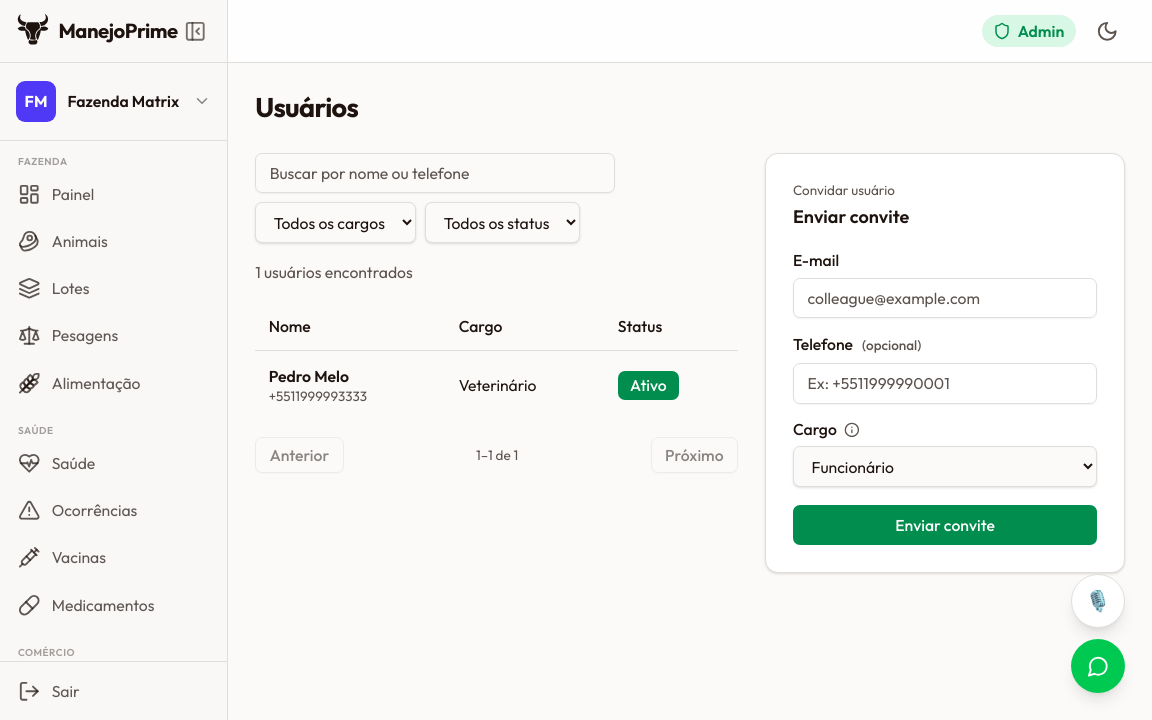
admin users page › shows user detail and revokes member access
Check: the text "Pedro Melo" is shown, box top-left (269, 366), bottom-right (349, 386)
Click the button "Pedro Melo +5511999993333 Veterinário Ativo".
click(497, 385)  # box top-left (255, 351), bottom-right (738, 419)
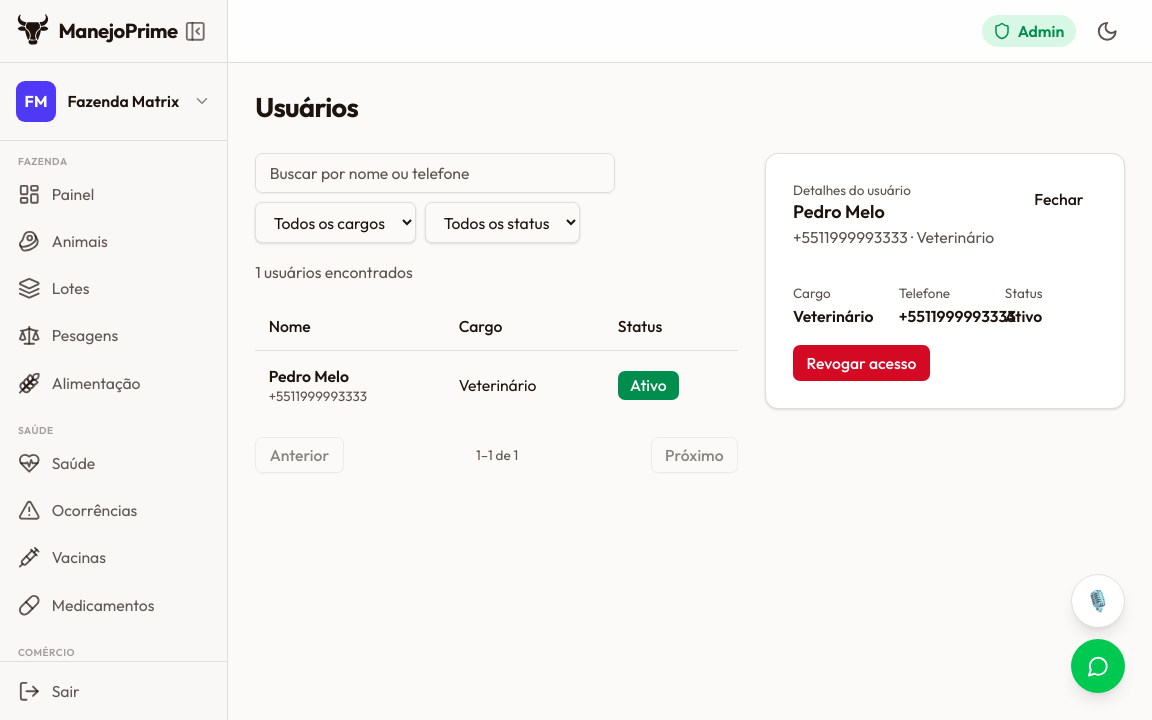
Check: the text "Detalhes do usuário" is shown, box top-left (793, 181), bottom-right (911, 199)
Check: the button "Revogar acesso" is shown
Click the button "Revogar acesso".
click(861, 363)  # box top-left (793, 345), bottom-right (930, 381)
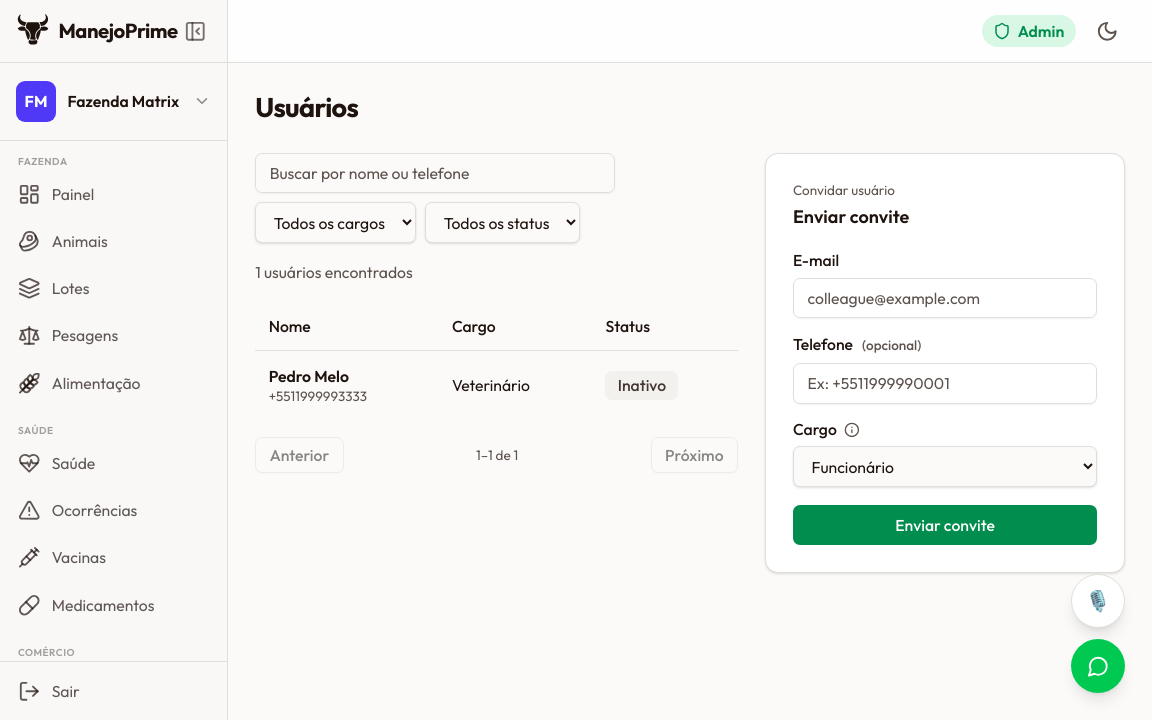
Check: the text "Detalhes do usuário" is gone
